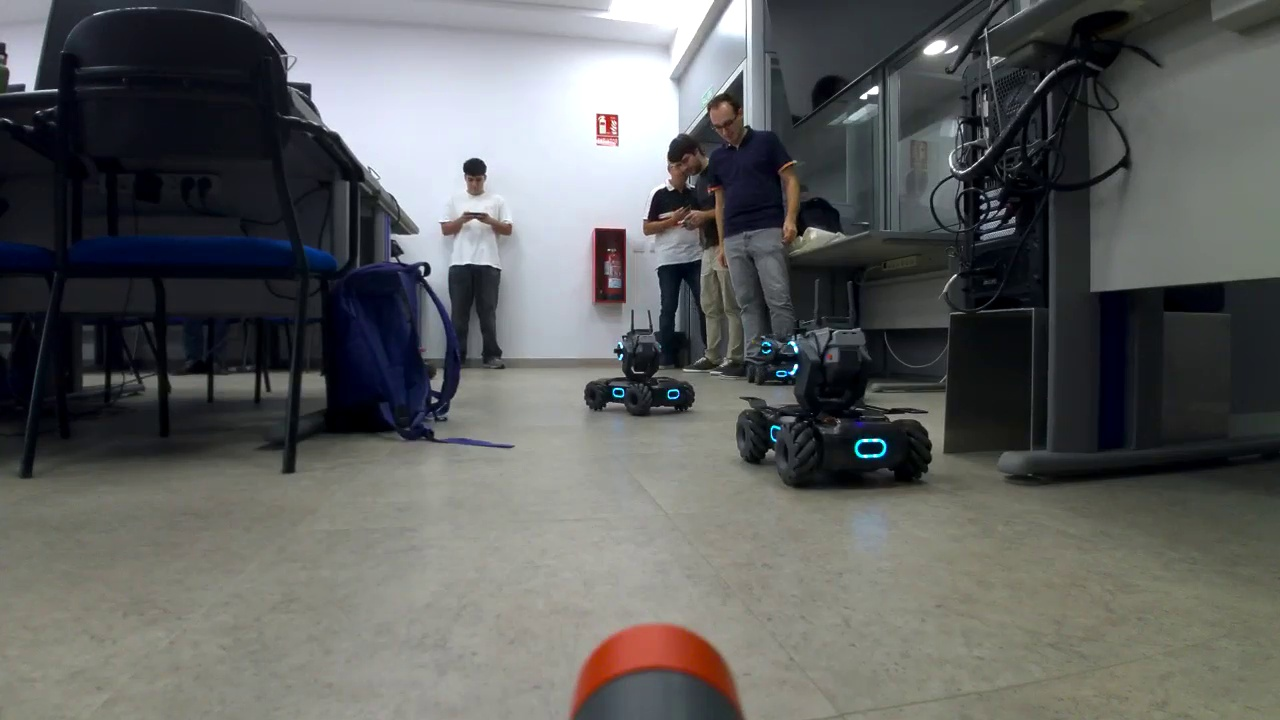robot: (732, 310, 938, 492), (582, 324, 697, 418)
